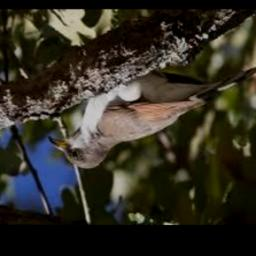Cuckoo: (47, 64, 256, 169)
